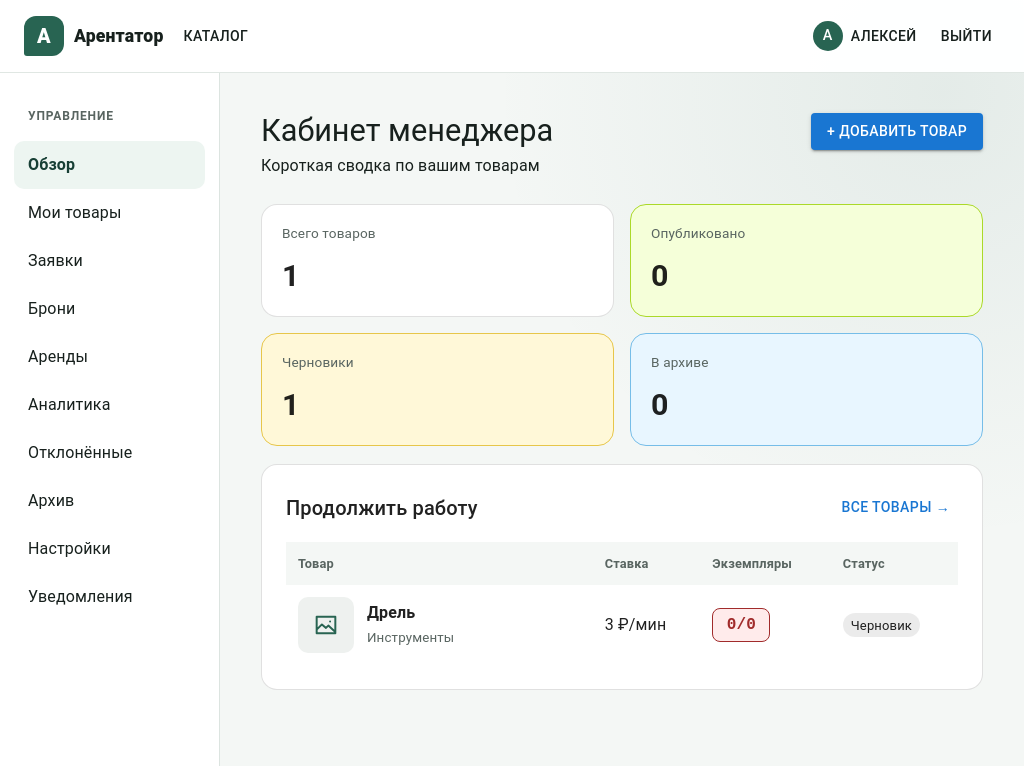
shows only own products and navigates to the editor
Expected: the heading "Кабинет менеджера" is shown, x1=261 y1=113 x2=553 y2=148
Expected: the text "Дрель" is shown, x1=367 y1=603 x2=415 y2=622
Click the link with aria-label "Открыть Дрель" at (298, 597), box x1=298 y1=597 x2=454 y2=653
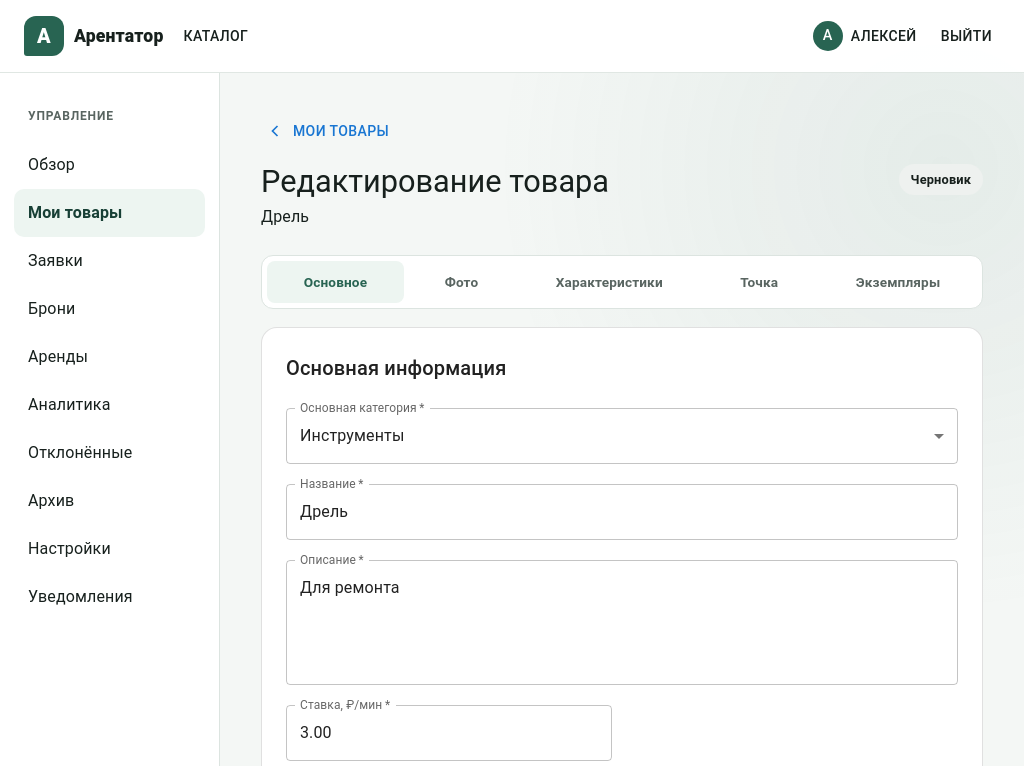
Expected: the heading "Редактирование товара" is shown, x1=261 y1=164 x2=609 y2=199
Expected: the number of links "Мои товары" is 2, x1=14 y1=189 x2=205 y2=237; x1=265 y1=121 x2=389 y2=141
